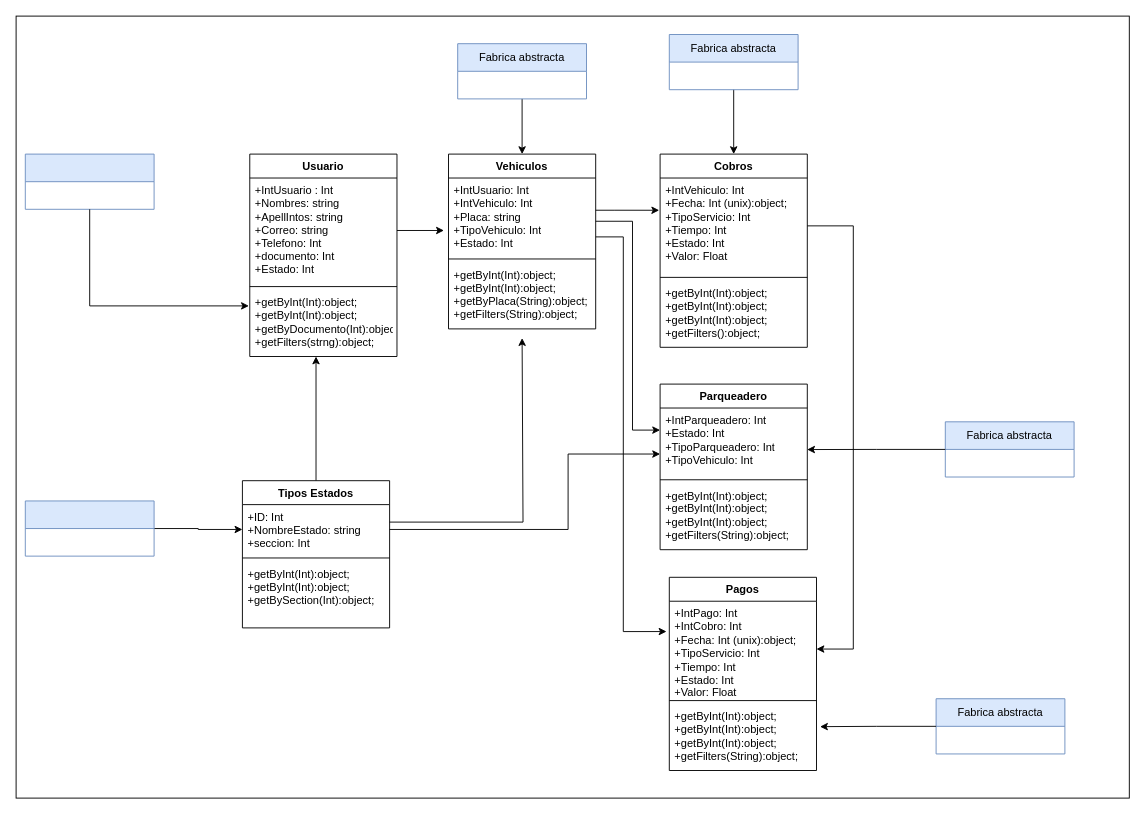
This 1145x814 diagram has some shape labels left out. Here are the shapes that lost their labels. From the top down, the centre of each, then its label:
[89,181]: Singleton
[89,528]: Estrategia
